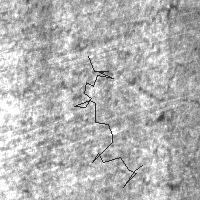crazing: (21, 6, 174, 105), (74, 56, 142, 187)
